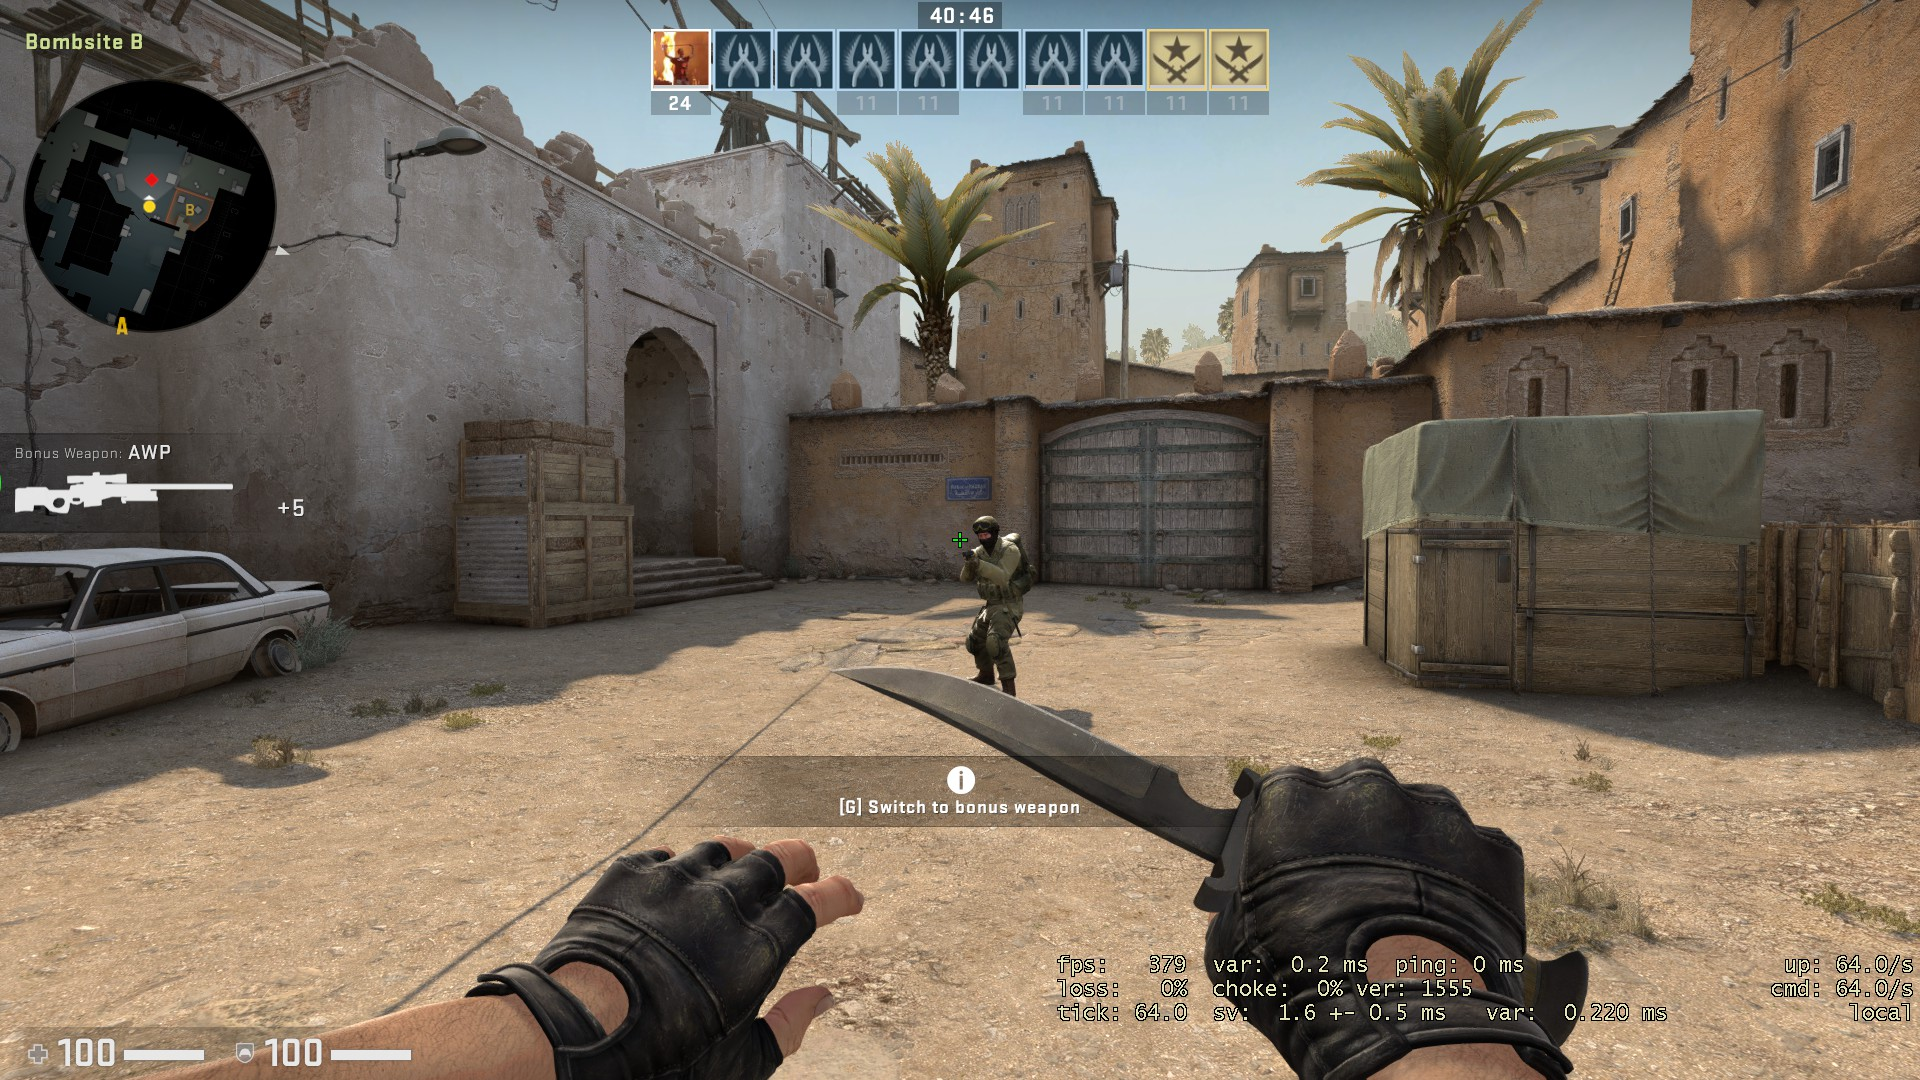player: (955, 511, 1039, 709)
